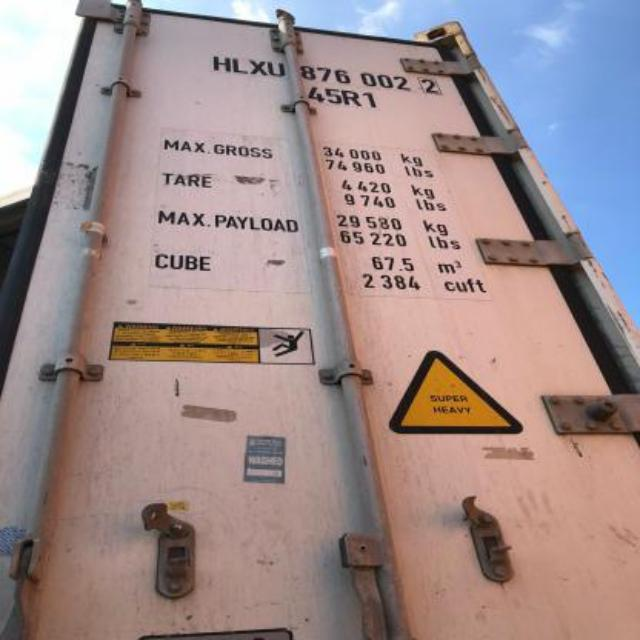0: (358, 66, 376, 90), (376, 65, 392, 91)
2: (418, 75, 442, 98), (393, 66, 411, 92)
6: (334, 59, 348, 85)
7: (314, 58, 330, 86)
8: (300, 62, 316, 82)
H: (210, 48, 230, 76)
L: (232, 52, 246, 78)
U: (266, 54, 290, 80)
X: (246, 52, 266, 78)
